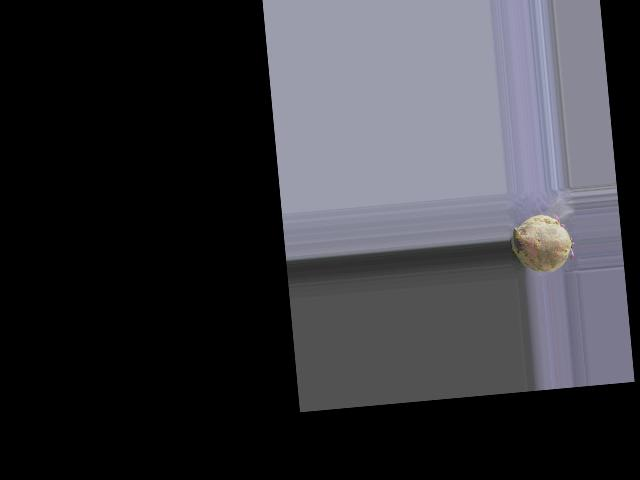beet: (509, 211, 575, 274)
